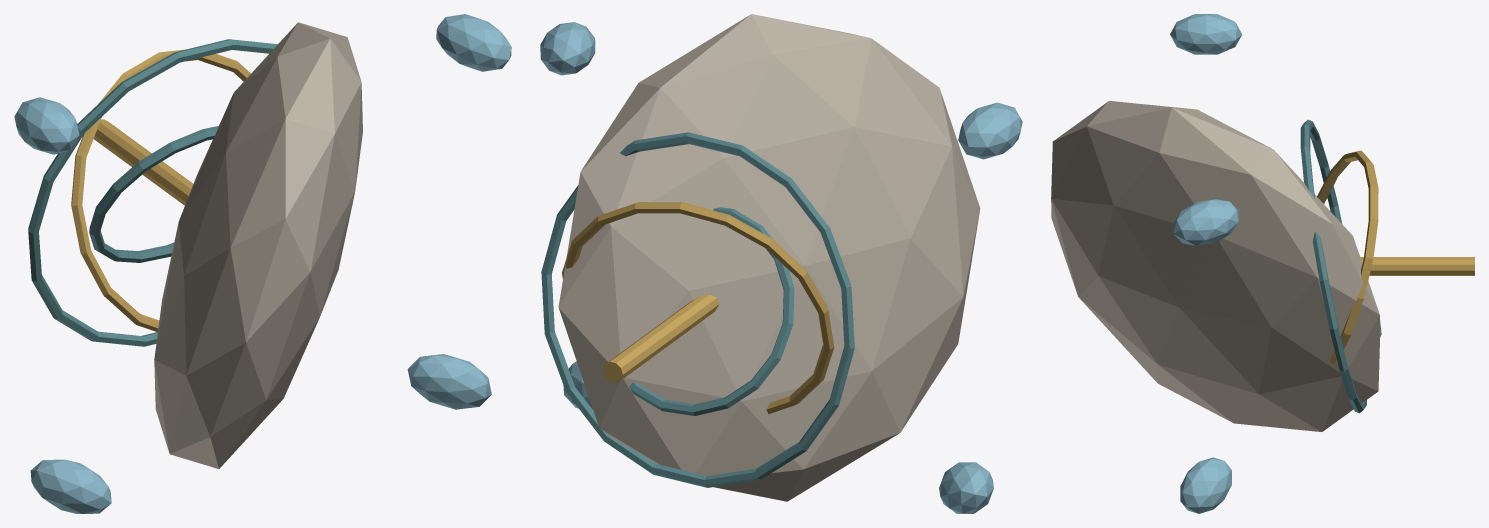
Rendered from region-stardust-landmark.glb.
The picture shows the model from 3 angles, left to right: view 1: azimuth 30°, elevation 25°; view 2: azimuth 150°, elevation 25°; view 3: azimuth 270°, elevation 25°; orthographic projection. The views are drawn at different scales.
Visible parts, largest first — view 1: weathered observatory plinth, offset astronomical arm, offset astronomical arm.001, mineral seam.003, mineral seam.002, offset astronomical arm.002, mineral seam.001, mineral seam, observatory polar axle; view 2: weathered observatory plinth, offset astronomical arm, offset astronomical arm.001, offset astronomical arm.002, observatory polar axle, mineral seam, mineral seam.001, mineral seam.002; view 3: weathered observatory plinth, offset astronomical arm, offset astronomical arm.001, mineral seam.001, mineral seam, mineral seam.003, observatory polar axle.
Part boxes in pixels (left/top/right/bottom): weathered observatory plinth: left=154, top=22, right=362, bottom=468; offset astronomical arm: left=28, top=39, right=277, bottom=346; offset astronomical arm.001: left=71, top=49, right=250, bottom=332; mineral seam.003: left=407, top=354, right=491, bottom=409; mineral seam.002: left=30, top=459, right=111, bottom=513; offset astronomical arm.002: left=89, top=126, right=218, bottom=262; mineral seam.001: left=436, top=14, right=511, bottom=71; mineral seam: left=14, top=97, right=79, bottom=154; observatory polar axle: left=93, top=119, right=193, bottom=205; weathered observatory plinth: left=558, top=14, right=980, bottom=501; offset astronomical arm: left=541, top=132, right=854, bottom=487; offset astronomical arm.001: left=562, top=202, right=834, bottom=413; offset astronomical arm.002: left=629, top=207, right=794, bottom=415; observatory polar axle: left=603, top=294, right=719, bottom=382; mineral seam: left=958, top=102, right=1022, bottom=159; mineral seam.001: left=540, top=22, right=595, bottom=75; mineral seam.002: left=939, top=462, right=993, bottom=513; weathered observatory plinth: left=1051, top=101, right=1380, bottom=431; offset astronomical arm: left=1300, top=119, right=1366, bottom=413; offset astronomical arm.001: left=1317, top=150, right=1378, bottom=364; mineral seam.001: left=1173, top=199, right=1238, bottom=245; mineral seam: left=1170, top=14, right=1242, bottom=54; mineral seam.003: left=1180, top=457, right=1231, bottom=513; observatory polar axle: left=1360, top=257, right=1474, bottom=275.
Bounding box in the file's own units: 11.84 × 10.24 × 11.12.
